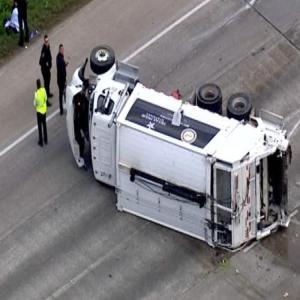critical: (61, 42, 295, 253)
